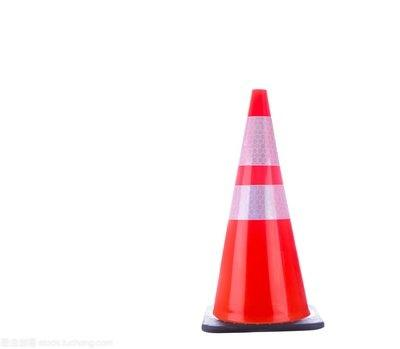cone_barrel: (200, 87, 321, 329)
